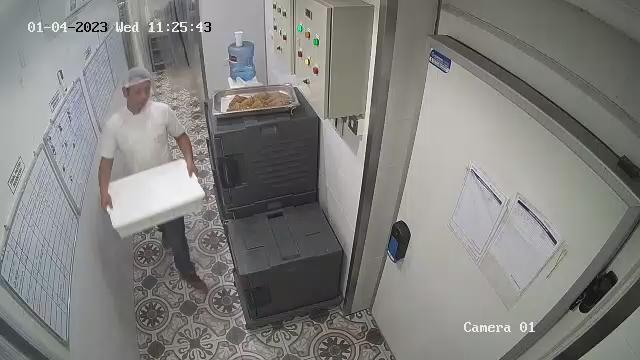no_apron: (115, 104, 174, 176)
